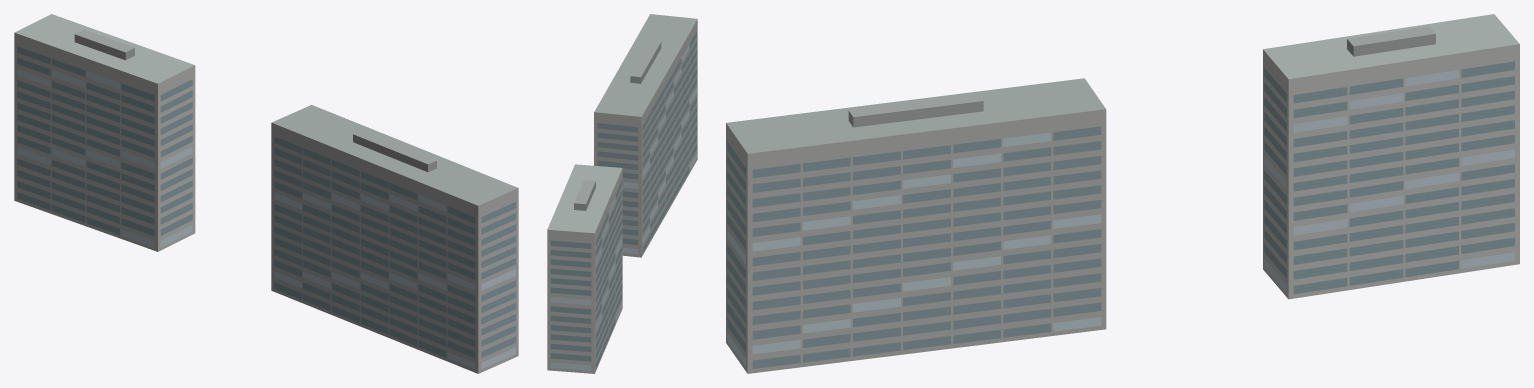
Rendered from apt-a13681701.glb.
The picture shows the model from 3 angles, left to right: view 1: azimuth 30°, elevation 25°; view 2: azimuth 150°, elevation 25°; view 3: azimuth 270°, elevation 25°; orthographic projection. The views are drawn at different scales.
Visible parts, largest first — view 1: apt-a13681701; view 2: apt-a13681701; view 3: apt-a13681701.
Boxes of the visible parts, x1,y1,x2,y2 form: apt-a13681701: (14, 14, 518, 373); apt-a13681701: (547, 14, 697, 373); apt-a13681701: (726, 14, 1519, 373).
Size of the model in its own units: 52.04 by 40 by 125.
